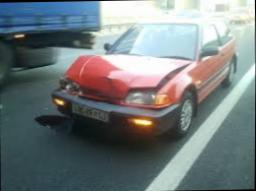Bonnet: (65, 50, 194, 99)
Bumper: (29, 90, 180, 136)
Light: (58, 72, 83, 94)
